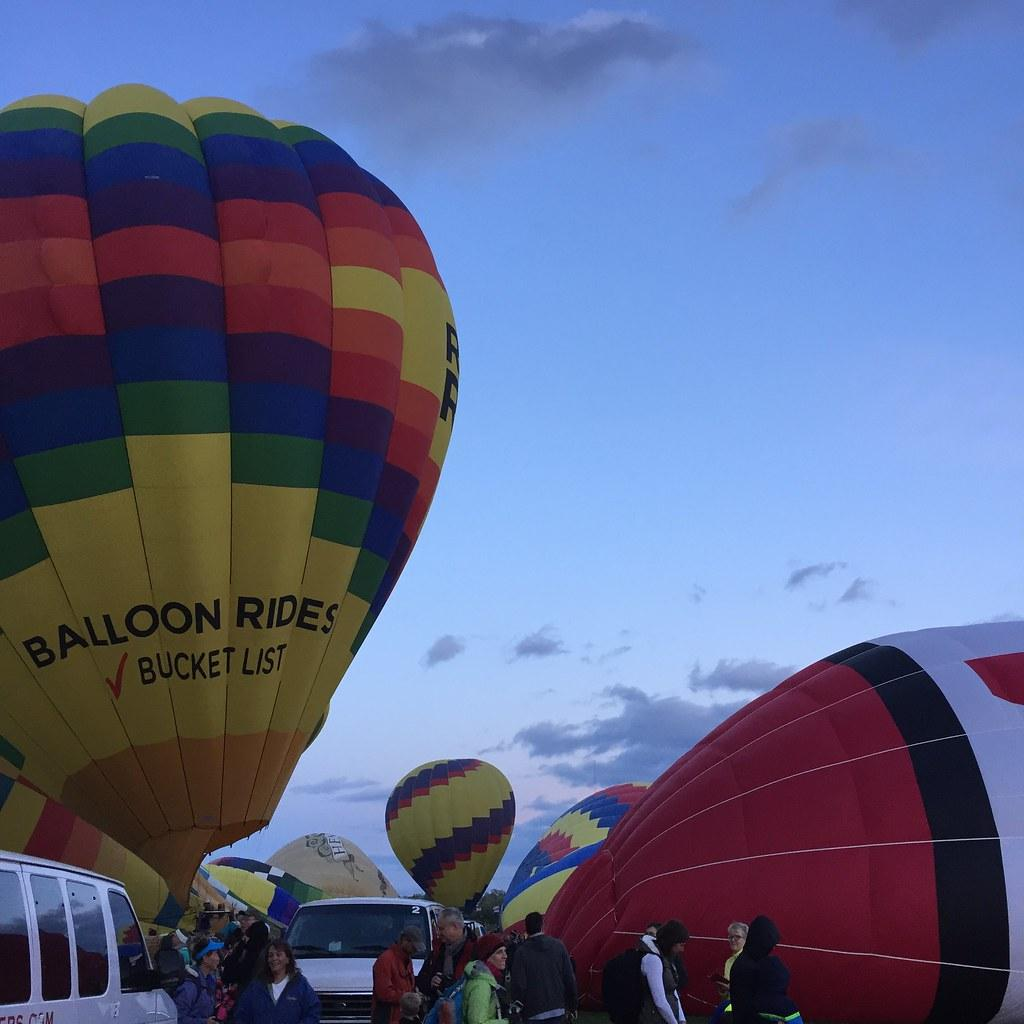balloon: (1, 82, 461, 946)
